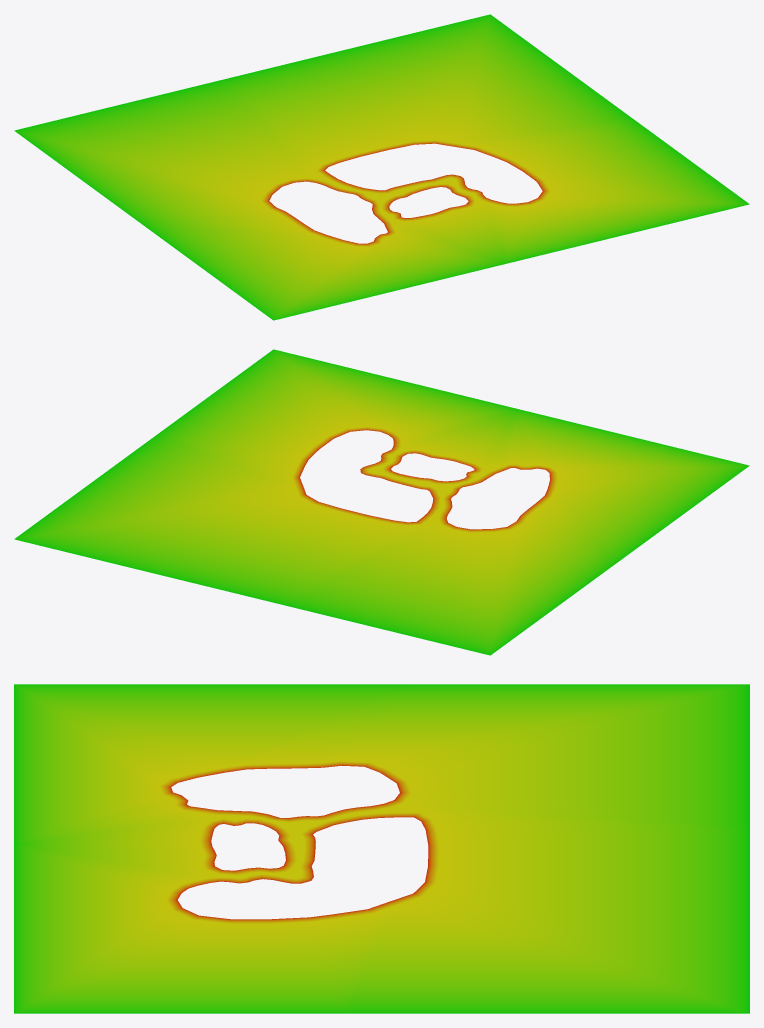
Rendered from IslandIglooLotWater.glb.
3 views of the same model, one above another, from view 1: azimuth 30°, elevation 25°; view 2: azimuth 150°, elevation 25°; view 3: azimuth 270°, elevation 25° (orthographic). The views are drawn at different scales.
Visible parts, largest first — view 1: IslandIglooLotWater; view 2: IslandIglooLotWater; view 3: IslandIglooLotWater.
Boxes of the visible parts, <box> form: IslandIglooLotWater: <box>14,14,749,320</box>; IslandIglooLotWater: <box>14,349,749,655</box>; IslandIglooLotWater: <box>14,684,749,1013</box>.
Size of the model in its own units: 78.33 by 2.24e-08 by 73.91.
